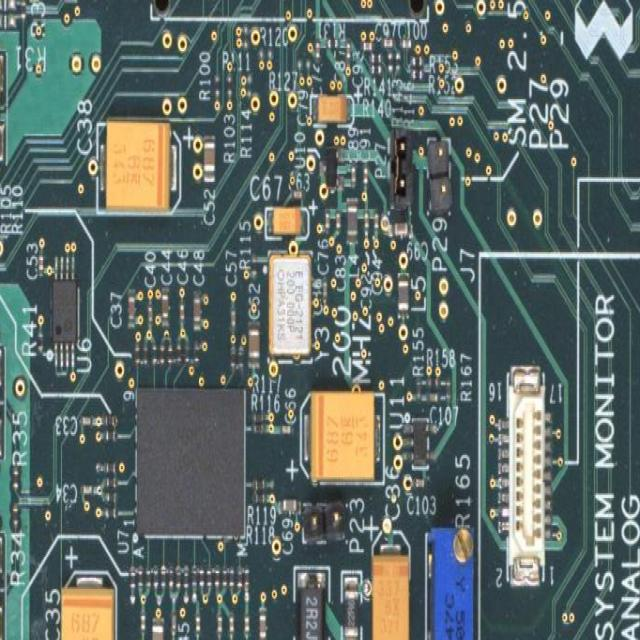IC: (134, 384, 246, 538), (51, 254, 75, 370), (404, 416, 436, 471), (320, 144, 343, 188)
capacitor: (247, 321, 260, 367), (203, 136, 215, 182), (388, 220, 411, 240), (161, 286, 170, 326), (192, 289, 201, 329), (277, 498, 299, 514), (151, 616, 163, 640), (127, 286, 134, 326), (258, 606, 266, 640), (360, 161, 368, 187), (193, 611, 201, 635), (334, 208, 341, 235), (80, 482, 93, 495), (349, 163, 356, 187), (289, 188, 303, 200), (362, 206, 368, 234), (321, 273, 327, 300), (229, 306, 236, 329), (425, 391, 441, 401), (324, 207, 330, 233), (178, 300, 184, 326), (146, 300, 152, 326), (216, 611, 222, 637), (398, 37, 412, 48), (381, 37, 395, 48), (313, 38, 320, 59), (170, 610, 176, 634), (227, 610, 233, 634), (243, 611, 249, 635), (413, 476, 427, 486), (362, 39, 374, 50), (344, 37, 350, 59), (78, 414, 91, 424), (278, 425, 292, 434), (37, 251, 42, 276), (373, 209, 378, 233), (139, 608, 144, 632)
clock: (266, 247, 312, 361)
connector: (498, 364, 552, 586), (426, 136, 452, 216), (302, 500, 346, 541), (0, 49, 7, 163), (0, 340, 6, 461), (0, 530, 6, 640)
electrolytic capacitor: (299, 390, 386, 486), (96, 122, 182, 216), (371, 528, 411, 640), (60, 568, 117, 640), (308, 93, 354, 126), (264, 206, 308, 238)
inductor: (292, 565, 330, 640), (345, 198, 357, 244), (397, 271, 409, 316)
jumper: (388, 129, 414, 211)
pads: (294, 54, 310, 72), (242, 22, 249, 50), (257, 48, 273, 59), (246, 72, 251, 97)
resistor: (340, 568, 362, 640), (11, 465, 18, 493), (167, 562, 174, 589), (225, 74, 232, 100), (252, 477, 266, 490), (369, 49, 383, 62), (128, 563, 135, 589), (183, 340, 189, 369), (192, 338, 198, 366), (237, 344, 244, 368), (11, 501, 18, 525), (137, 564, 143, 592), (409, 54, 423, 66), (425, 375, 440, 386), (214, 74, 220, 100), (104, 504, 117, 516), (182, 563, 188, 589), (324, 37, 338, 48), (104, 428, 118, 439), (252, 490, 266, 501), (150, 340, 156, 365), (166, 340, 172, 364), (250, 412, 266, 421), (102, 492, 118, 501), (198, 564, 204, 588), (236, 564, 242, 588), (152, 564, 158, 588), (175, 338, 180, 366), (142, 338, 147, 366), (102, 414, 116, 424), (133, 341, 139, 364), (393, 49, 399, 72), (230, 343, 235, 370), (222, 562, 227, 589), (104, 474, 116, 485), (250, 252, 255, 278), (206, 563, 211, 589), (244, 563, 249, 589), (228, 563, 233, 589), (252, 423, 266, 432), (369, 64, 383, 73), (410, 69, 424, 78), (415, 377, 420, 402), (445, 376, 450, 401), (159, 340, 164, 364), (104, 460, 116, 470), (160, 564, 165, 588), (145, 565, 150, 589), (191, 565, 196, 587), (387, 51, 392, 73), (215, 562, 219, 589), (176, 563, 180, 589)
